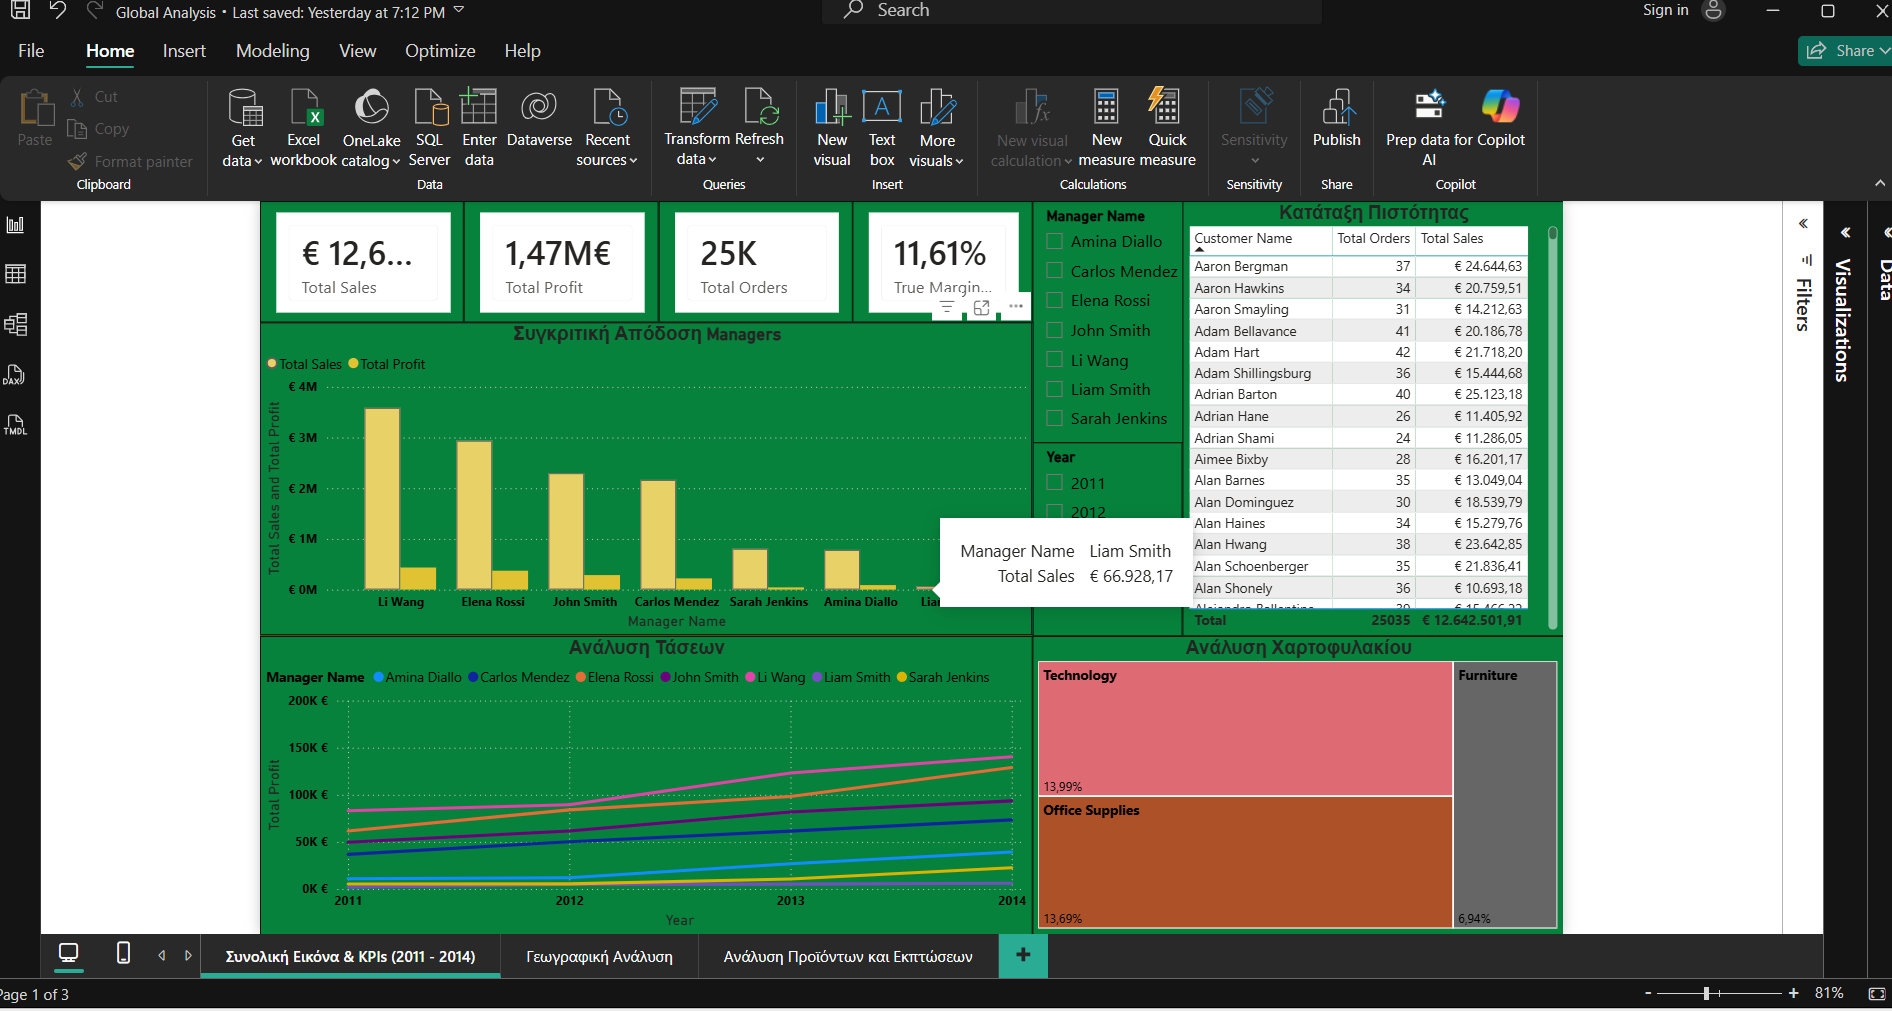

The page's visual inventory and layout, read from the dashboard file:
{"tool":"powerbi","page":{"name":"Συνολική Εικόνα & KPIs (2011 - 2014)","canvas":[1280,720],"ordinal":0},"visuals":[{"type":"slicer","fields":{"Values":["Calendar.Year"]},"box":[758.3,236.8,147.2,190.2],"z":0},{"type":"slicer","fields":{"Values":["Manager Name.Manager Name"]},"box":[758.8,0,152.3,237.4],"z":1000},{"type":"cardVisual","fields":{"Data":["_Measures.Total Sales"]},"box":[0,0,200,119],"z":2000},{"type":"cardVisual","fields":{"Data":["_Measures.Total Profit"]},"box":[200,0,191.4,119],"z":3000},{"type":"cardVisual","fields":{"Data":["_Measures.Total Orders"]},"box":[391.4,0,190.2,119],"z":4000},{"type":"cardVisual","fields":{"Data":["_Measures.True Margin %"]},"box":[581.6,0,176.7,119],"z":5000},{"type":"clusteredColumnChart","title":"Συγκριτική Απόδοση Managers ","fields":{"Category":["Manager Name.Manager Name"],"Y":["_Measures.Total Sales","_Measures.Total Profit"]},"box":[0,119.4,758.8,307.4],"z":6000},{"type":"treemap","title":"Ανάλυση Χαρτοφυλακίου","fields":{"Group":["Global.Category","Global.Sub-Category"],"Values":["_Measures.True Margin %"]},"box":[758.3,427,521.5,293.3],"z":7000},{"type":"tableEx","title":"Κατάταξη Πιστότητας","fields":{"Values":["Global.Customer Name","_Measures.Total Orders","_Measures.Total Sales"]},"box":[905.5,0,374.2,427],"z":8000},{"type":"lineChart","title":"Ανάλυση Τάσεων","fields":{"Category":["Calendar.Year"],"Series":["Manager Name.Manager Name"],"Y":["_Measures.Total Profit"]},"box":[0,427,758.3,293.3],"z":10000}]}

Visuals, with their boxes on the page's 1280x720 design canvas (x1, y1, x2, y2). These are canvas units, not pixel positions in the 1892x1011 screenshot, which may show the page scaled, cropped or inside an application window:
slicer - Calendar.Year: {"x1": 758, "y1": 237, "x2": 906, "y2": 427}
slicer - Manager Name.Manager Name: {"x1": 759, "y1": 0, "x2": 911, "y2": 237}
cardVisual - _Measures.Total Sales: {"x1": 0, "y1": 0, "x2": 200, "y2": 119}
cardVisual - _Measures.Total Profit: {"x1": 200, "y1": 0, "x2": 391, "y2": 119}
cardVisual - _Measures.Total Orders: {"x1": 391, "y1": 0, "x2": 582, "y2": 119}
cardVisual - _Measures.True Margin %: {"x1": 582, "y1": 0, "x2": 758, "y2": 119}
"Συγκριτική Απόδοση Managers " clusteredColumnChart: {"x1": 0, "y1": 119, "x2": 759, "y2": 427}
"Ανάλυση Χαρτοφυλακίου" treemap: {"x1": 758, "y1": 427, "x2": 1280, "y2": 720}
"Κατάταξη Πιστότητας" tableEx: {"x1": 906, "y1": 0, "x2": 1280, "y2": 427}
"Ανάλυση Τάσεων" lineChart: {"x1": 0, "y1": 427, "x2": 758, "y2": 720}
